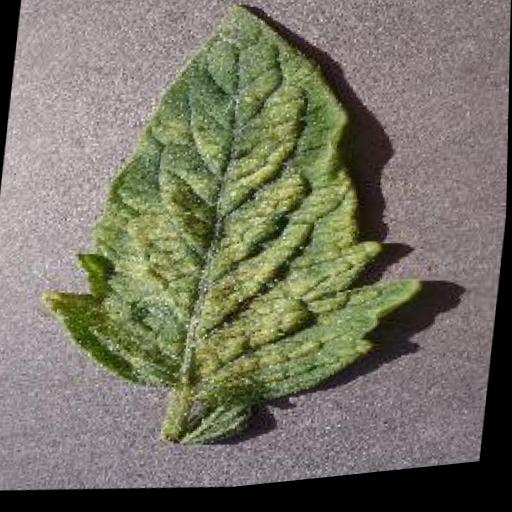Spider Mites: (34, 0, 454, 445)
